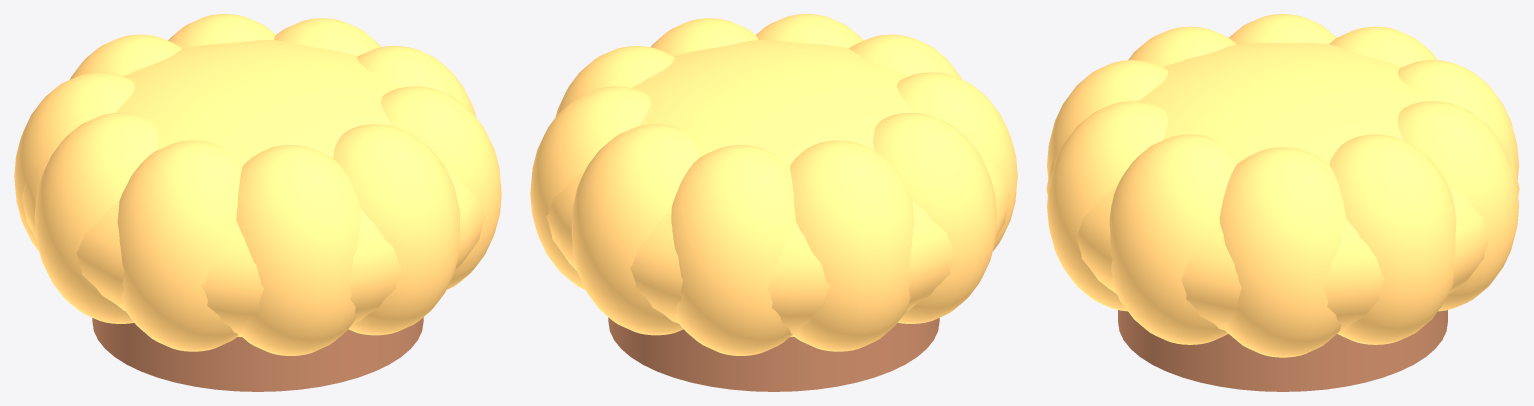
The model's file is marigold_pouf.glb.
The picture shows the model from 3 angles, left to right: view 1: azimuth 30°, elevation 25°; view 2: azimuth 150°, elevation 25°; view 3: azimuth 270°, elevation 25°; orthographic projection.
Visible parts, largest first — view 1: marigold_pouf; view 2: marigold_pouf; view 3: marigold_pouf.
Boxes of the visible parts, box(x1,y1,x2,y2) form: marigold_pouf: box(14, 14, 501, 391); marigold_pouf: box(530, 14, 1017, 391); marigold_pouf: box(1046, 14, 1519, 391).
Size of the model in its own units: 0.68 by 0.375 by 0.66.
